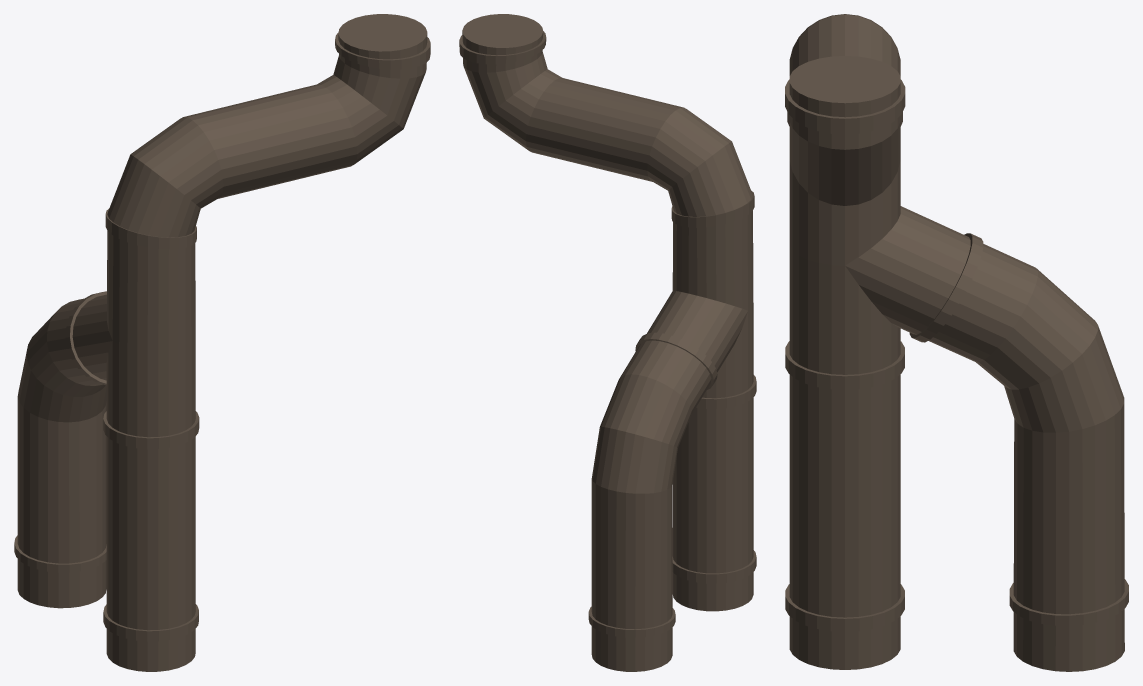
File: Pipes.fbx
3 views of the same model, side by side, from view 1: azimuth 30°, elevation 25°; view 2: azimuth 150°, elevation 25°; view 3: azimuth 270°, elevation 25° (orthographic). The views are drawn at different scales.
Parts seen in each view (by area): view 1: Plane; view 2: Plane; view 3: Plane.
Boxes of the visible parts, x1=… form: Plane: x1=14, y1=14, x2=430, y2=671; Plane: x1=459, y1=14, x2=756, y2=671; Plane: x1=785, y1=14, x2=1128, y2=671.
Size of the model in its own units: 408 by 700 by 307.
